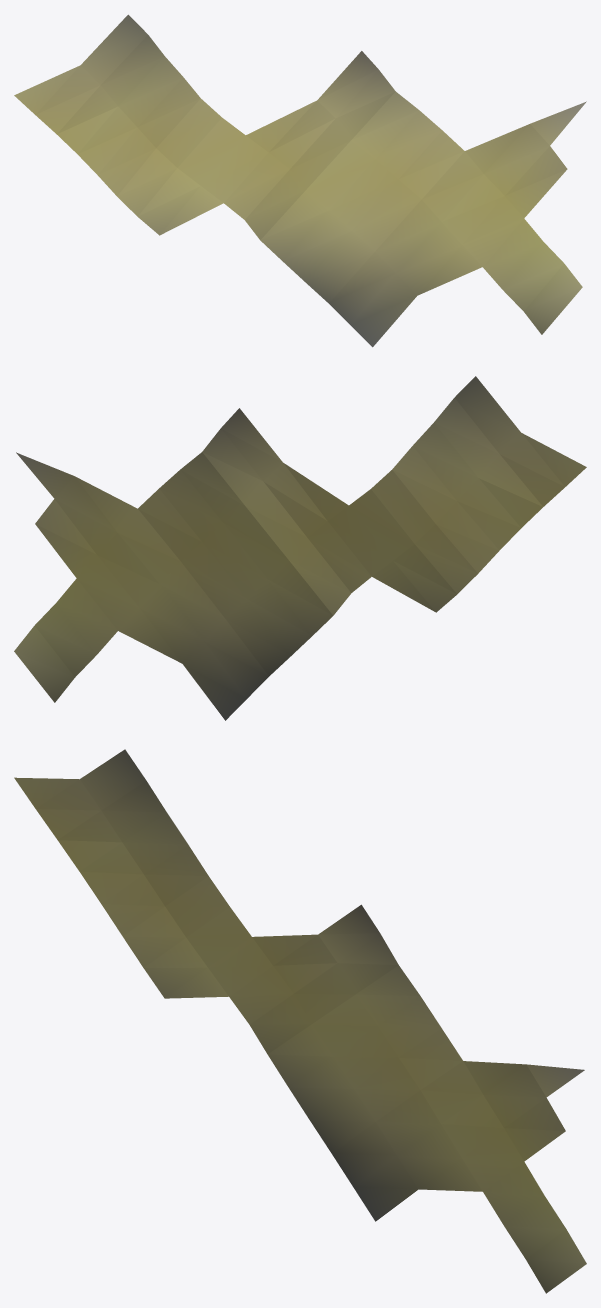
Rendered from entity-floor-marking-22.glb.
3 views of the same model, one above another, from view 1: azimuth 30°, elevation 25°; view 2: azimuth 150°, elevation 25°; view 3: azimuth 330°, elevation 25° (orthographic). The views are drawn at different scales.
Parts seen in each view (by area): view 1: geometry_0; view 2: geometry_0; view 3: geometry_0.
Part boxes in pixels (x1,y1,x2,y2): geometry_0: (14, 14, 586, 347); geometry_0: (14, 376, 586, 720); geometry_0: (14, 749, 586, 1293).
Size of the model in its own units: 0.1877 by 0.1334 by 0.00863.
